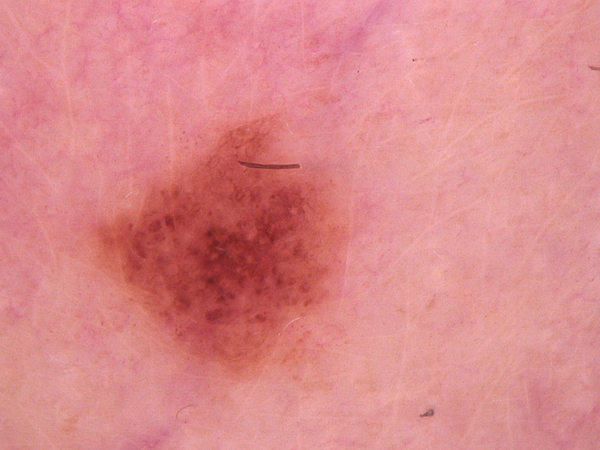Detected Lesion: (93, 116, 353, 384)
